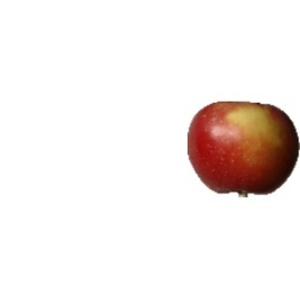maçã braeburn: (189, 99, 297, 202)
